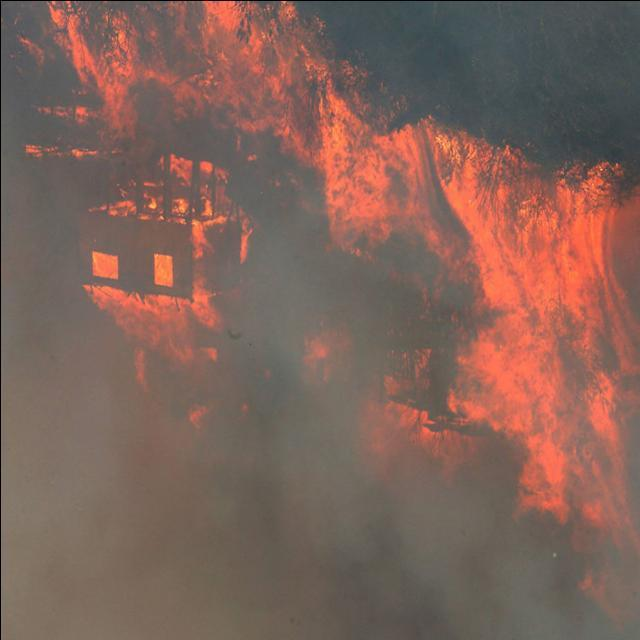Fire: (322, 116, 617, 518), (62, 1, 256, 370)
